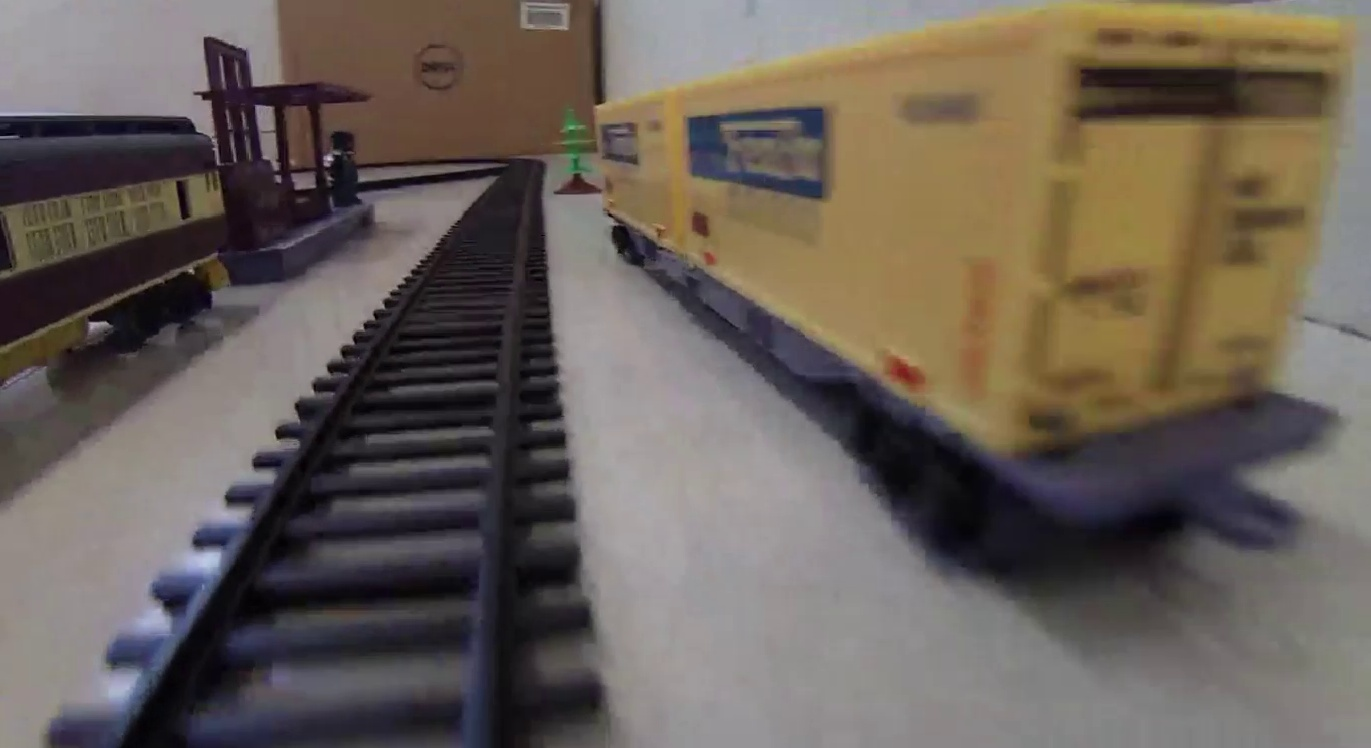people: (325, 131, 363, 207)
tree: (548, 108, 597, 192)
